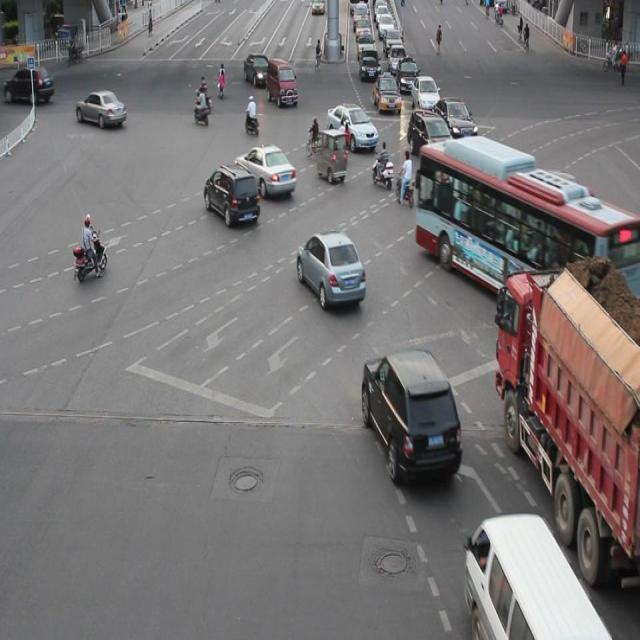bus: (493, 271, 640, 576)
car: (360, 346, 460, 481), (296, 230, 367, 308), (523, 167, 583, 228), (203, 163, 258, 226), (235, 144, 295, 197), (406, 108, 453, 169), (326, 103, 378, 151), (435, 96, 476, 140)
truck: (462, 511, 608, 640)
van: (414, 137, 640, 315)
